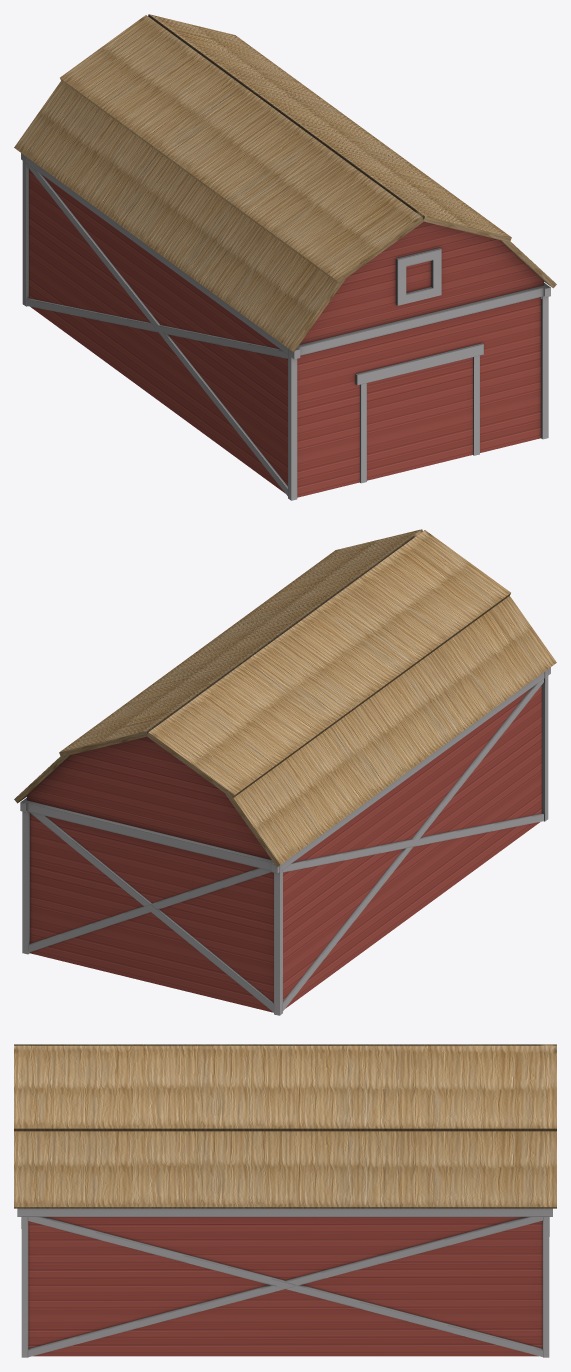
File: Barn.fbx
3 renders of one model, top to bottom at view 1: azimuth 30°, elevation 25°; view 2: azimuth 150°, elevation 25°; view 3: azimuth 270°, elevation 25°, orthographic.
Visible parts, largest first — view 1: Building_1; view 2: Building_1; view 3: Building_1.
Part boxes in pixels (bbox=[...]): Building_1: bbox=[14, 14, 556, 500]; Building_1: bbox=[14, 529, 556, 1015]; Building_1: bbox=[14, 1044, 556, 1357].
Size of the model in its own units: 237 by 217 by 426.
